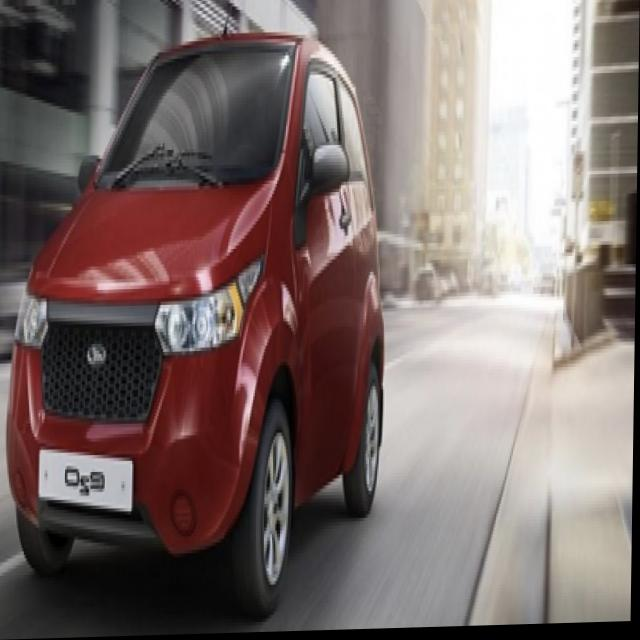licence: (42, 448, 136, 501)
